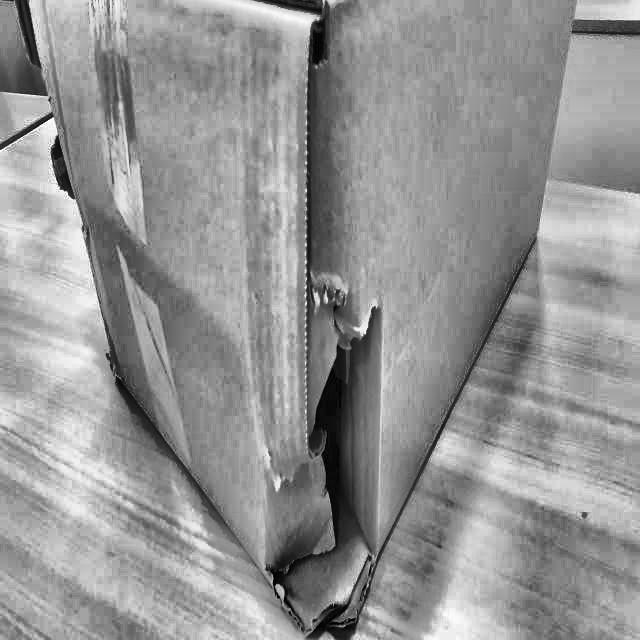box: (10, 0, 585, 639)
hole: (280, 287, 386, 631)
